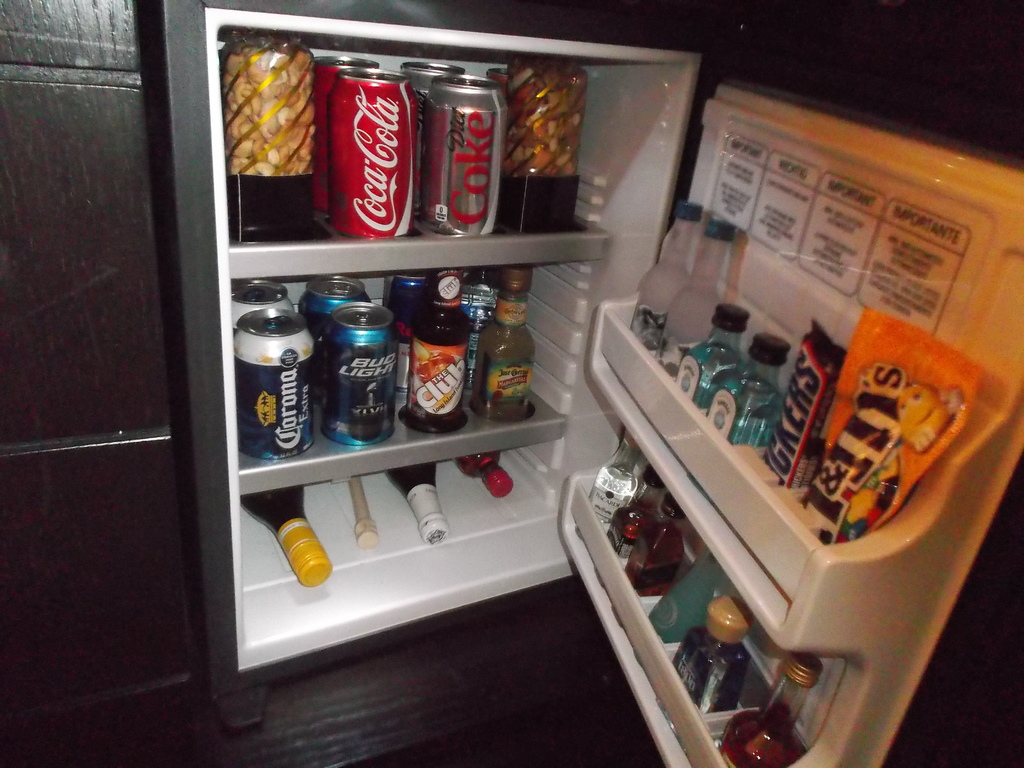refrigerator door: (674, 83, 982, 756)
